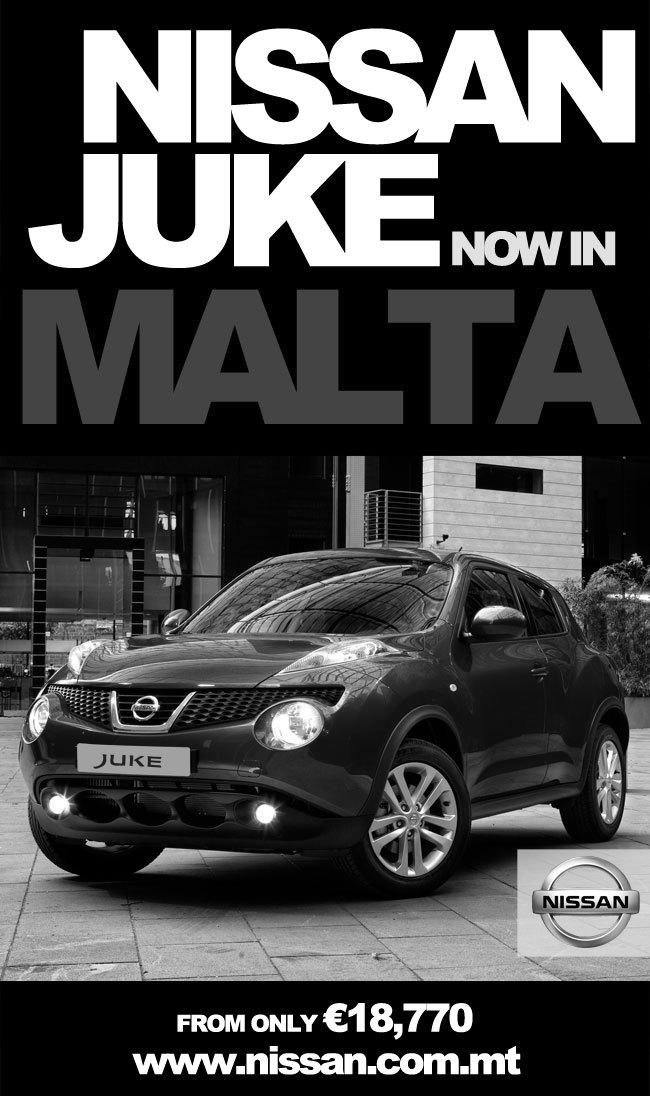car: (17, 533, 637, 905)
